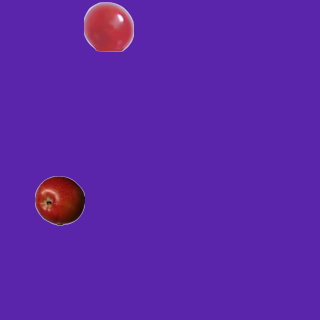Apple Braeburn: (34, 175, 84, 225)
Redcurrant: (83, 1, 133, 51)
